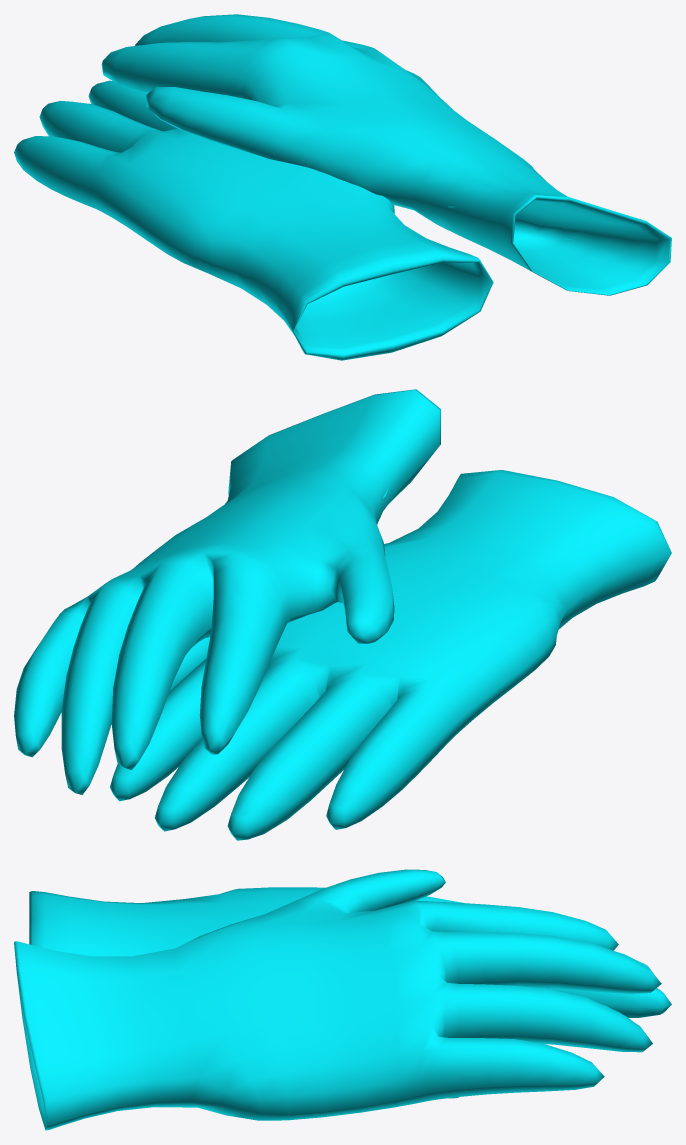
File: Gloves.FBX
3 renders of one model, top to bottom at view 1: azimuth 30°, elevation 25°; view 2: azimuth 150°, elevation 25°; view 3: azimuth 270°, elevation 25°, orthographic. The views are drawn at different scales.
Visible parts, largest first — view 1: Glove_R, Glove_L; view 2: Glove_L, Glove_R; view 3: Glove_R, Glove_L.
Part boxes in pixels (bbox=[...]): Glove_R: bbox=[101, 14, 671, 295]; Glove_L: bbox=[14, 80, 493, 360]; Glove_L: bbox=[110, 470, 671, 840]; Glove_R: bbox=[14, 389, 440, 794]; Glove_R: bbox=[14, 869, 661, 1130]; Glove_L: bbox=[29, 887, 671, 1098].
Bounding box in the file's own units: 20.75 × 30.68 × 7.98.
